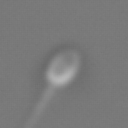normal: (22, 82, 56, 127)
